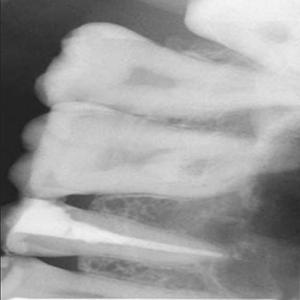tooth: (9, 105, 241, 200), (37, 22, 262, 114), (0, 198, 199, 267)
